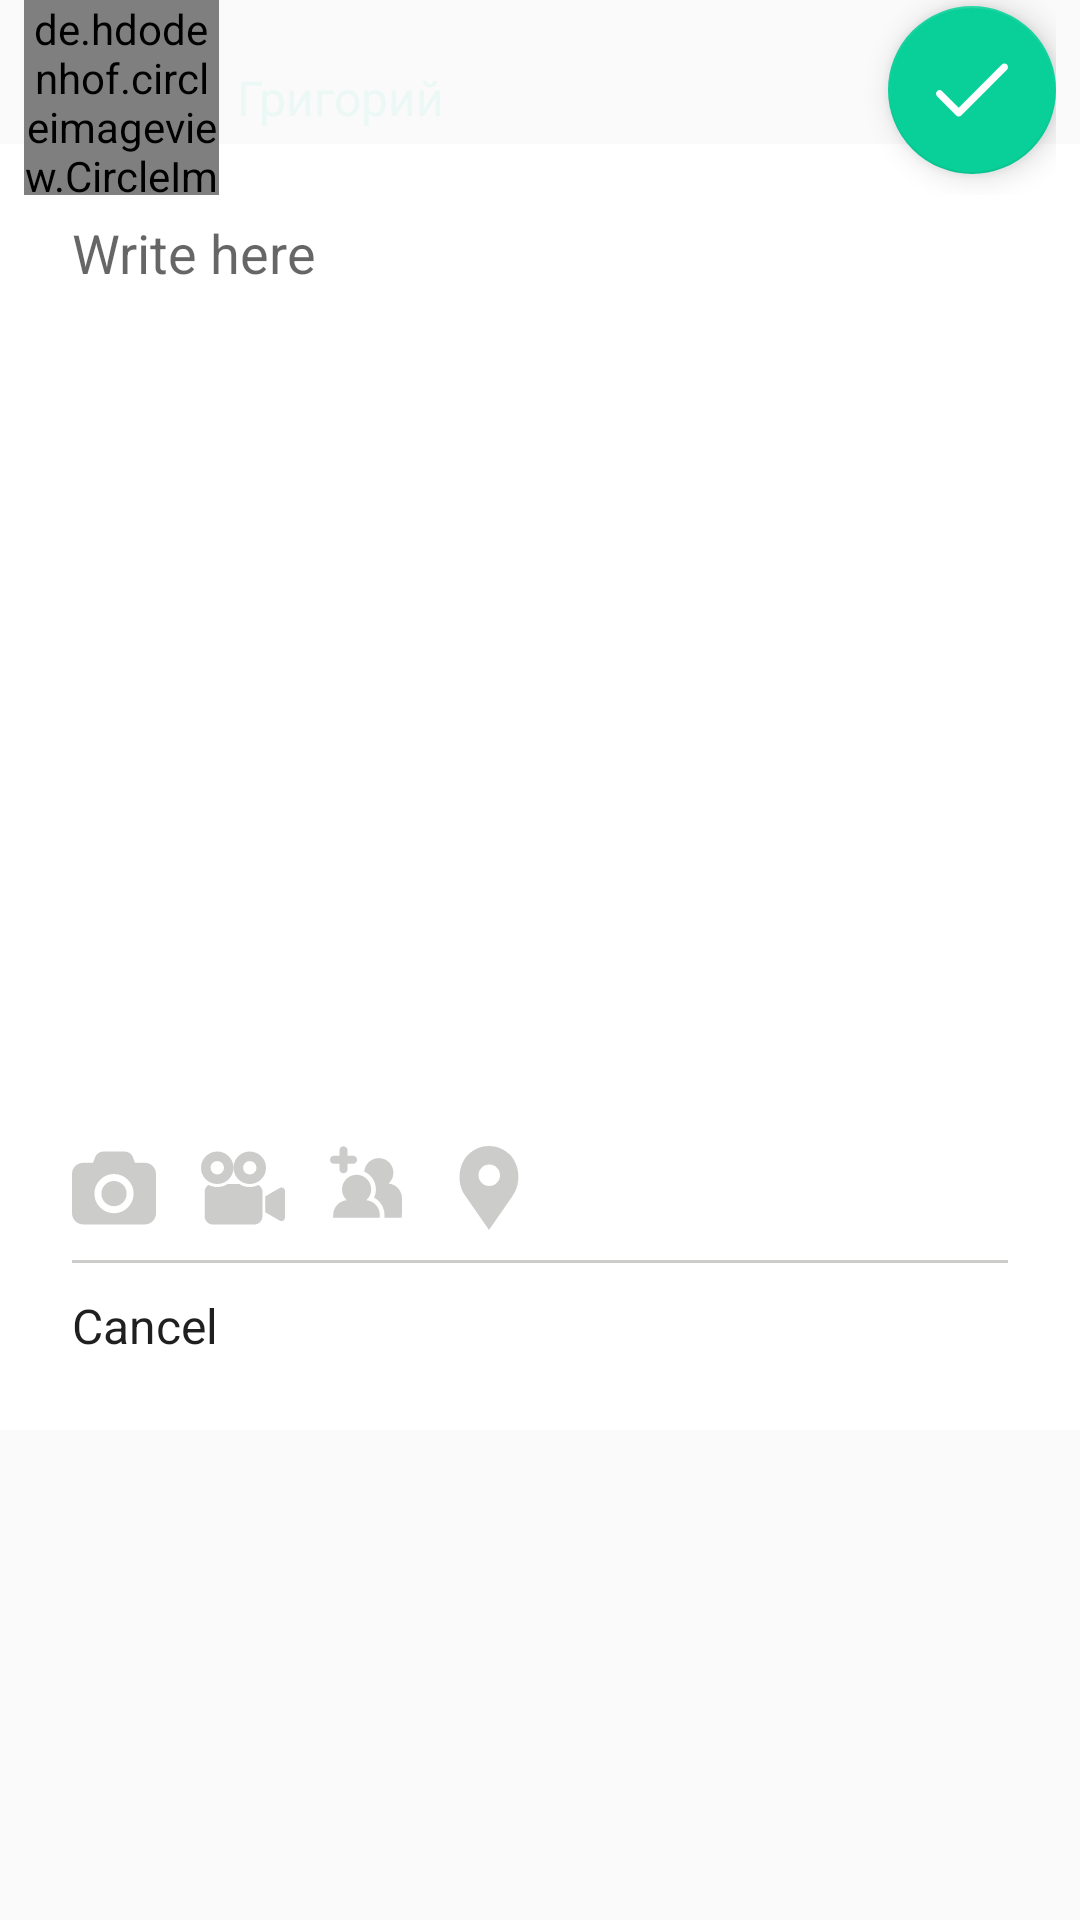

Where icons sit on this 1080w x 1920h app screen, as (x1=x1, y1=y1, x2=x2, y2=y2):
add friend: (x1=330, y1=1146, x2=402, y2=1218)
checkmark: (x1=888, y1=6, x2=1056, y2=174)
photo: (x1=72, y1=1151, x2=156, y2=1225)
video camera: (x1=201, y1=1151, x2=285, y2=1225)
